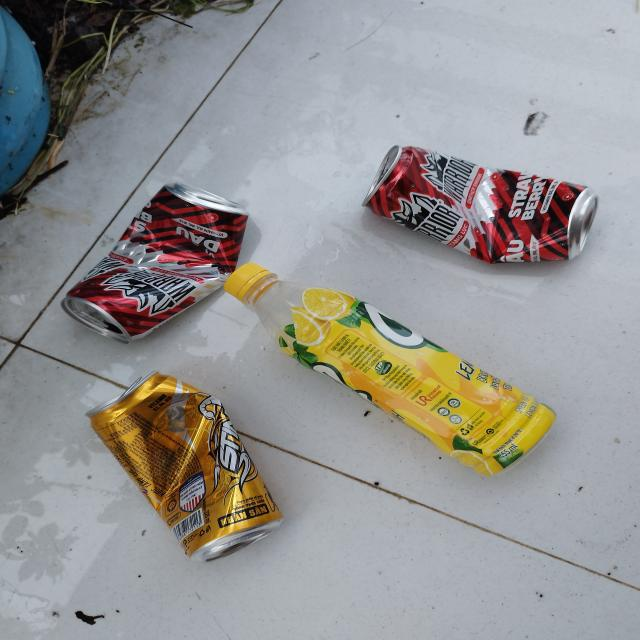bottle: (225, 263, 556, 475)
can: (87, 370, 285, 564), (61, 182, 250, 344), (362, 144, 600, 263)
